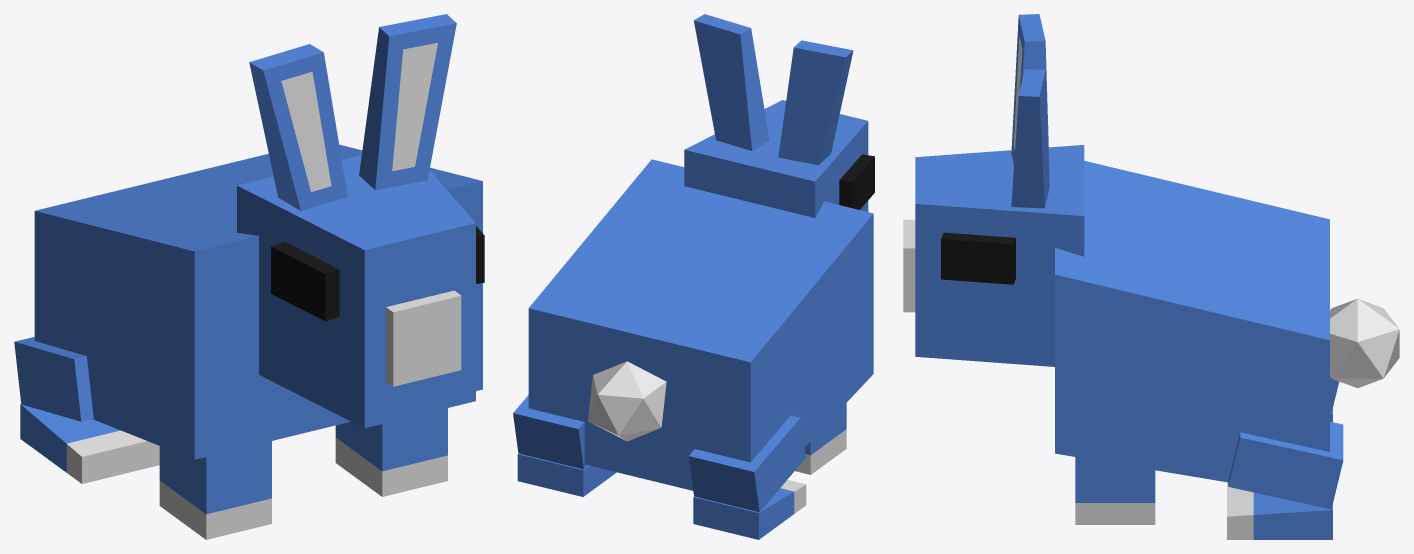
The model's file is Rabbit.fbx.
3 renders of one model, left to right at view 1: azimuth 30°, elevation 25°; view 2: azimuth 150°, elevation 25°; view 3: azimuth 270°, elevation 25°, orthographic. The views are drawn at different scales.
Visible parts, largest first — view 1: Rabbit; view 2: Rabbit; view 3: Rabbit.
Part boxes in pixels (left/top/right/bottom): Rabbit: left=14, top=14, right=484, bottom=539; Rabbit: left=513, top=14, right=874, bottom=539; Rabbit: left=903, top=14, right=1399, bottom=539.
Bounding box in the file's own units: 0.6377 × 1.02 × 0.948.
